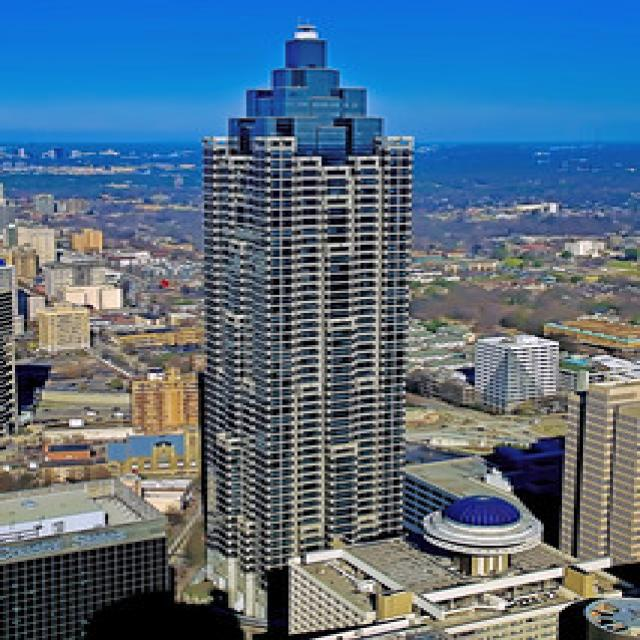building: (192, 16, 418, 560)
